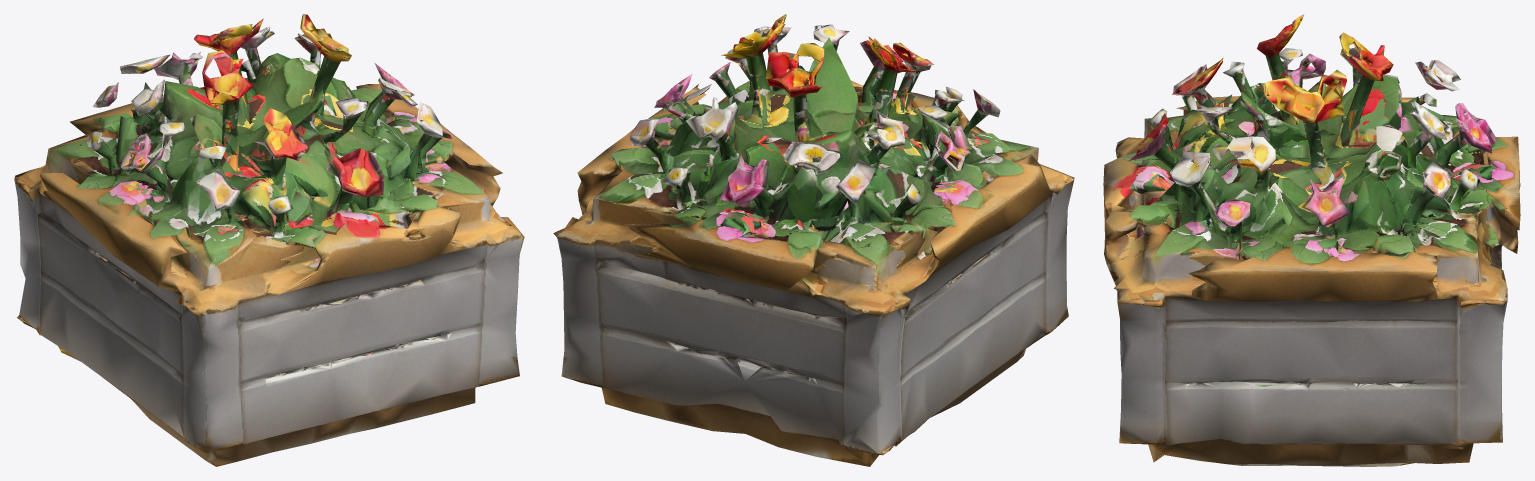
File: P_ShowPlanter_h60.fbx
The picture shows the model from 3 angles, left to right: view 1: azimuth 30°, elevation 25°; view 2: azimuth 150°, elevation 25°; view 3: azimuth 270°, elevation 25°; orthographic projection. The views are drawn at different scales.
Parts seen in each view (by area): view 1: texture_mapping; view 2: texture_mapping; view 3: texture_mapping.
Part boxes in pixels (left/top/right/bottom): texture_mapping: left=14, top=14, right=524, bottom=466; texture_mapping: left=553, top=14, right=1074, bottom=466; texture_mapping: left=1103, top=14, right=1520, bottom=466.
Size of the model in its own units: 0.9424 by 0.9425 by 0.9225.
Materials: 1 (1 with a texture image).
